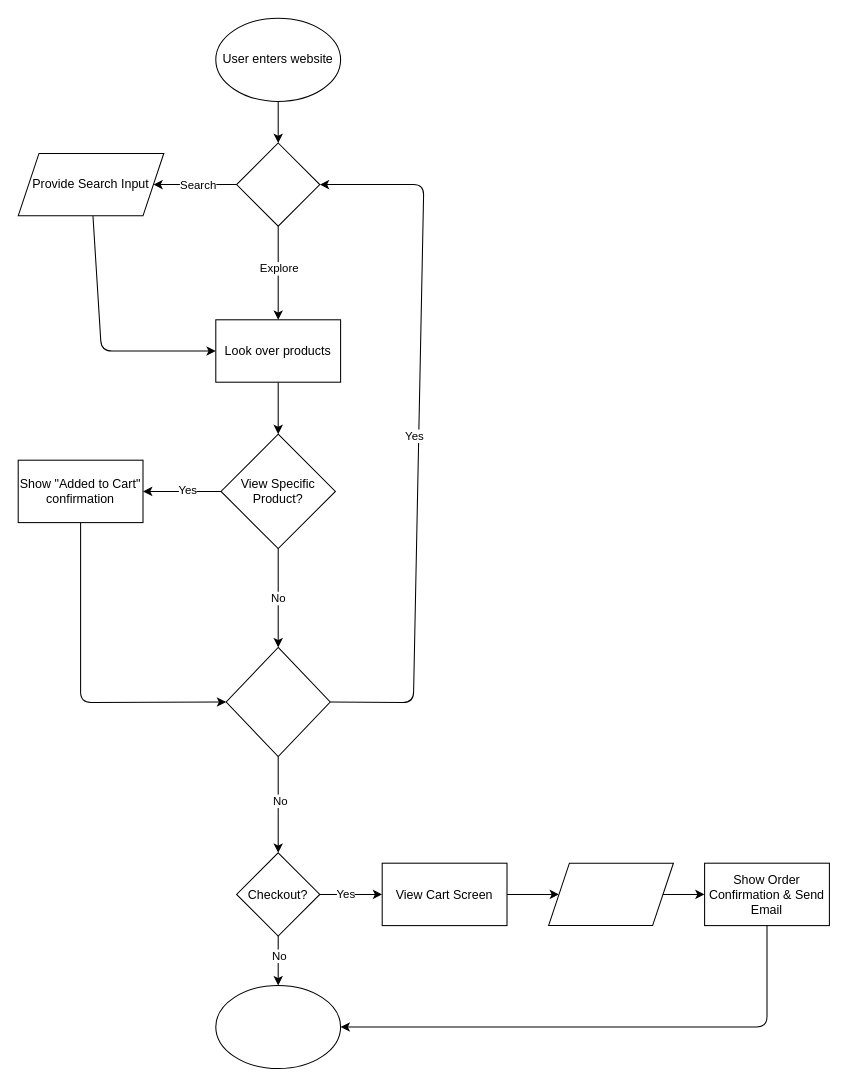
The diagram is 856 pixels wide and 1087 high, and some of its shapes have lost their labels. Each missing label, with the centre of its shape:
"Continue Shopping?" belongs at pixel 277 701.
"Input Payment Information" belongs at pixel 610 894.
"Leave Website" belongs at pixel 278 1026.
"Search or Explore" belongs at pixel 278 184.
